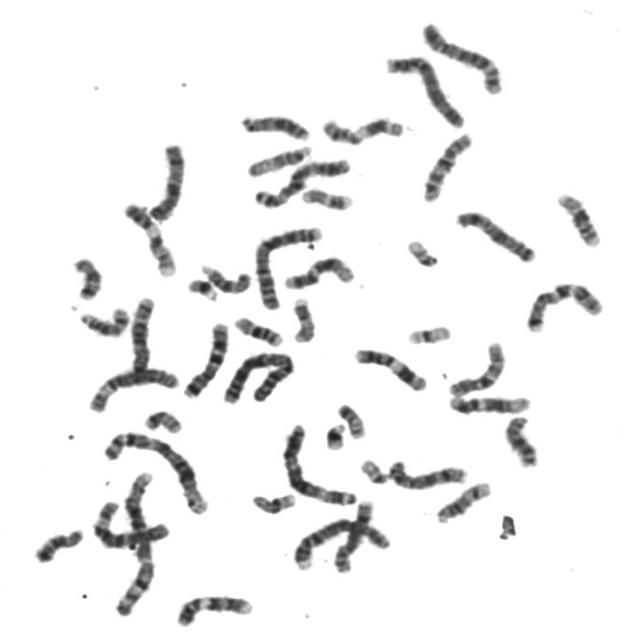A1: (96, 424, 211, 516), (108, 465, 158, 619)
A2: (249, 220, 325, 311), (216, 345, 297, 406)
A3: (276, 417, 360, 506), (248, 152, 354, 210)
B4: (379, 47, 468, 130), (287, 511, 392, 572)
B5: (415, 14, 506, 96), (124, 290, 157, 385)
C10: (416, 126, 476, 204), (442, 334, 508, 399)
C11: (348, 341, 430, 393), (315, 108, 407, 146)
C12: (278, 249, 356, 291), (442, 388, 534, 416)
C6: (82, 360, 181, 414), (86, 494, 173, 550)
C7: (520, 275, 606, 335), (177, 316, 232, 400)
C8: (328, 494, 377, 574), (382, 453, 470, 491)
C9: (116, 196, 179, 278), (169, 588, 256, 629)
D13: (234, 107, 312, 142), (498, 408, 542, 469)
D14: (429, 475, 494, 526), (72, 300, 131, 338)
D15: (240, 138, 316, 179), (195, 258, 253, 296)
E16: (550, 185, 604, 249), (227, 310, 285, 348)
E17: (295, 181, 355, 212), (285, 291, 318, 344)
E18: (27, 522, 86, 564), (66, 250, 104, 301)
F19: (245, 485, 299, 516), (399, 318, 454, 346)
F20: (331, 397, 369, 440), (138, 404, 184, 434)
G21: (181, 272, 220, 302), (318, 417, 348, 452)
G22: (401, 233, 442, 269), (354, 452, 392, 485)
X: (449, 204, 538, 264), (142, 136, 188, 223)
